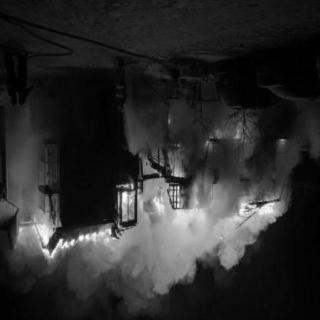Fire: (19, 174, 282, 266)
